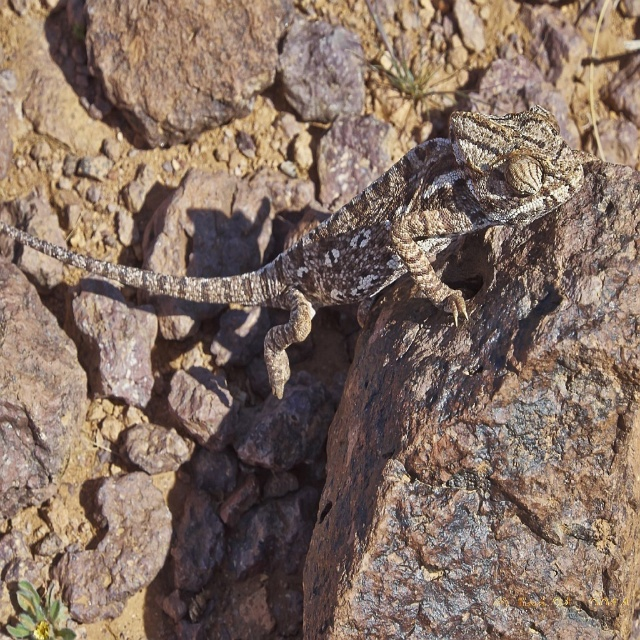Lizard: (18, 122, 605, 417)
